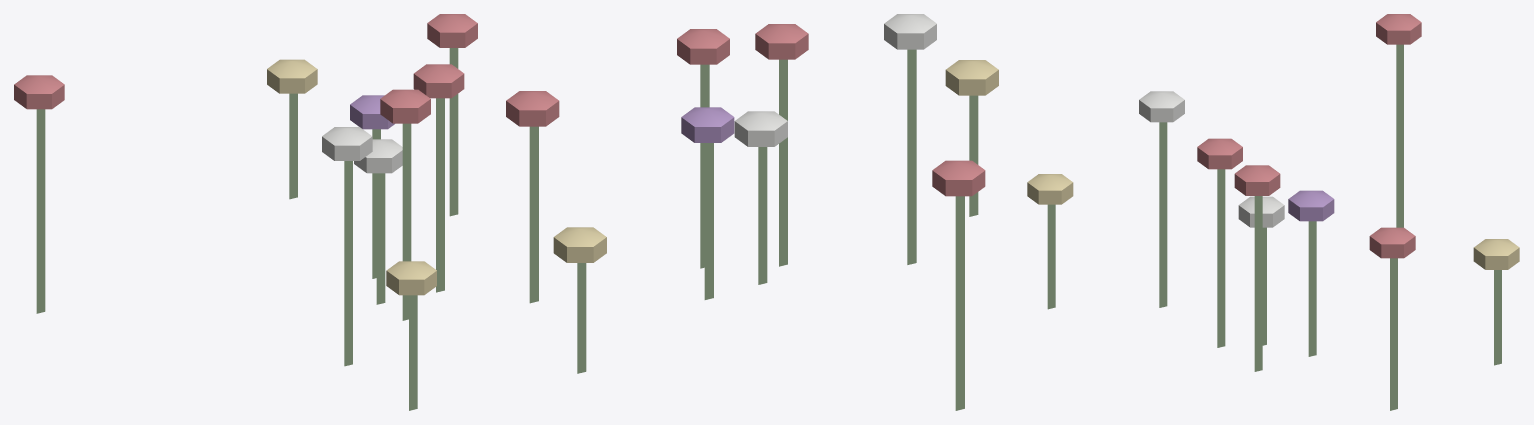
The model's file is flowers.gltf.
3 views of the same model, side by side, from view 1: azimuth 30°, elevation 25°; view 2: azimuth 150°, elevation 25°; view 3: azimuth 270°, elevation 25° (orthographic). The views are drawn at different scales.
Visible parts, largest first — view 1: Body; view 2: Body; view 3: Body.
Part boxes in pixels (left/top/right/bottom): Body: left=14, top=14, right=477, bottom=410; Body: left=506, top=14, right=998, bottom=410; Body: left=1027, top=14, right=1519, bottom=410.
Size of the model in its own units: 1.06 by 0.5338 by 1.12.
